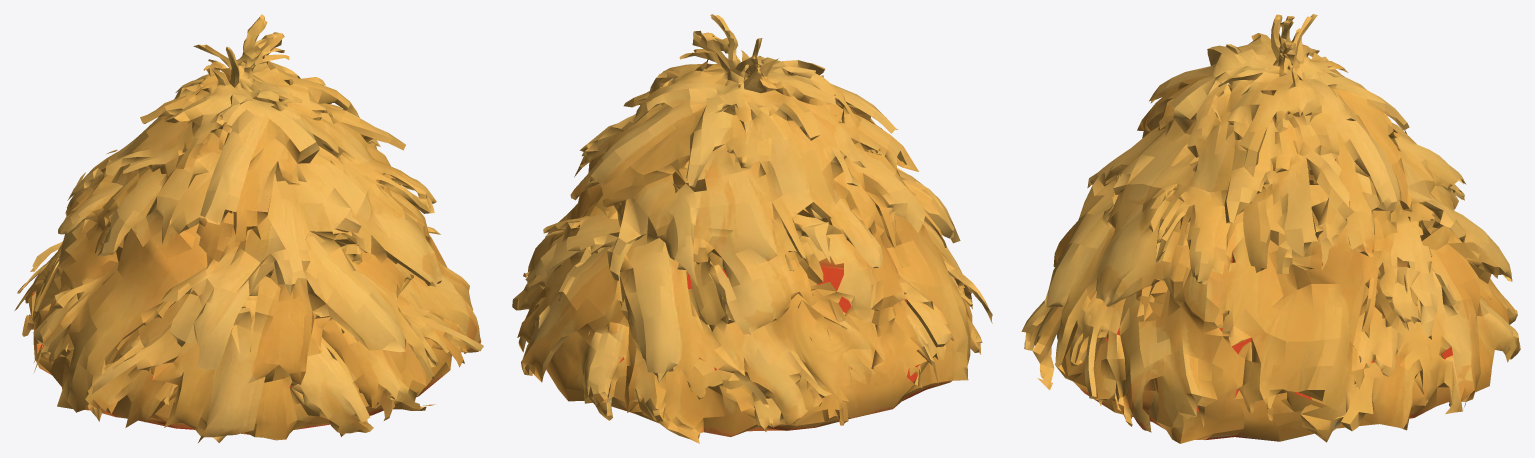
Rendered from saman.glb.
3 views of the same model, side by side, from view 1: azimuth 30°, elevation 25°; view 2: azimuth 150°, elevation 25°; view 3: azimuth 270°, elevation 25° (orthographic). The views are drawn at different scales.
Parts seen in each view (by area): view 1: Mesh0; view 2: Mesh0; view 3: Mesh0.
Part boxes in pixels (box(x1,y1,x2,y2)): Mesh0: box(14, 14, 483, 442); Mesh0: box(512, 14, 992, 443); Mesh0: box(1021, 14, 1520, 443).
Size of the model in its own units: 1.75 by 1.38 by 1.79.
Materials: 1 (1 with a texture image).
